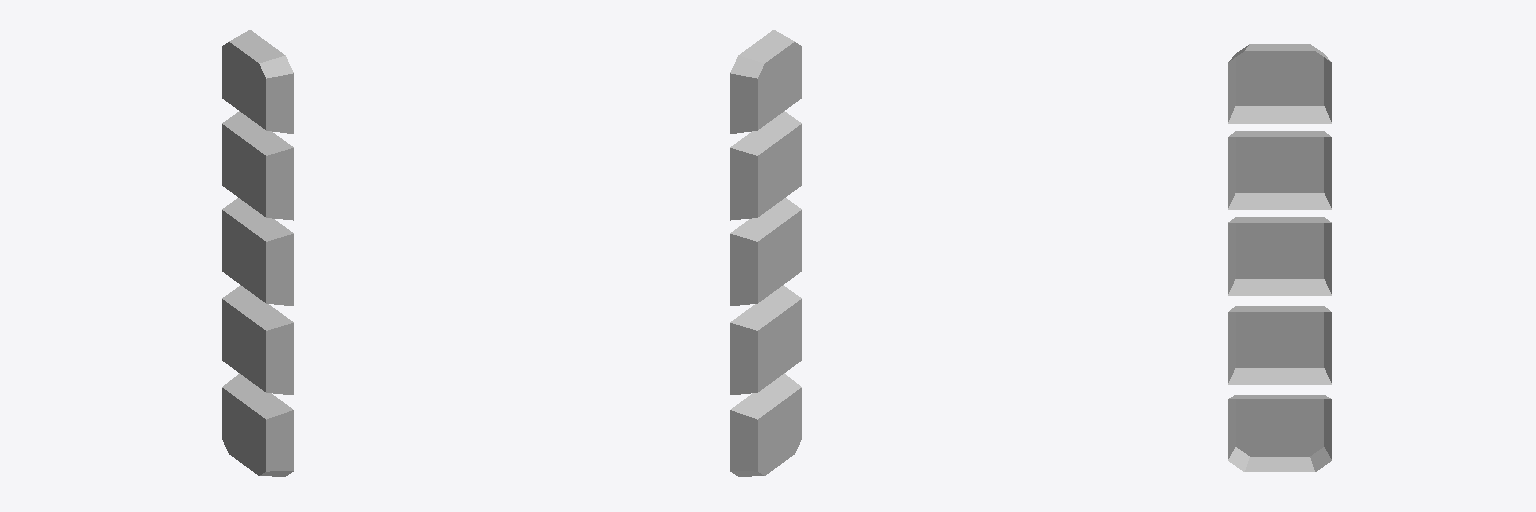
The model's file is Med_Cap_LED.obj.
3 renders of one model, left to right at view 1: azimuth 30°, elevation 25°; view 2: azimuth 150°, elevation 25°; view 3: azimuth 270°, elevation 25°, orthographic.
Parts seen in each view (by area): view 1: m_GC_Battery_LED_5_Instance.002_m_GC_Battery_LED_5_Instance.003; view 2: m_GC_Battery_LED_5_Instance.002_m_GC_Battery_LED_5_Instance.003; view 3: m_GC_Battery_LED_5_Instance.002_m_GC_Battery_LED_5_Instance.003.
Part boxes in pixels (x1,y1,x2,y2): m_GC_Battery_LED_5_Instance.002_m_GC_Battery_LED_5_Instance.003: (222,30,293,476); m_GC_Battery_LED_5_Instance.002_m_GC_Battery_LED_5_Instance.003: (730,30,801,476); m_GC_Battery_LED_5_Instance.002_m_GC_Battery_LED_5_Instance.003: (1228,44,1331,471).
Bounding box in the file's own units: 0.0313 × 0.53 × 0.1192.